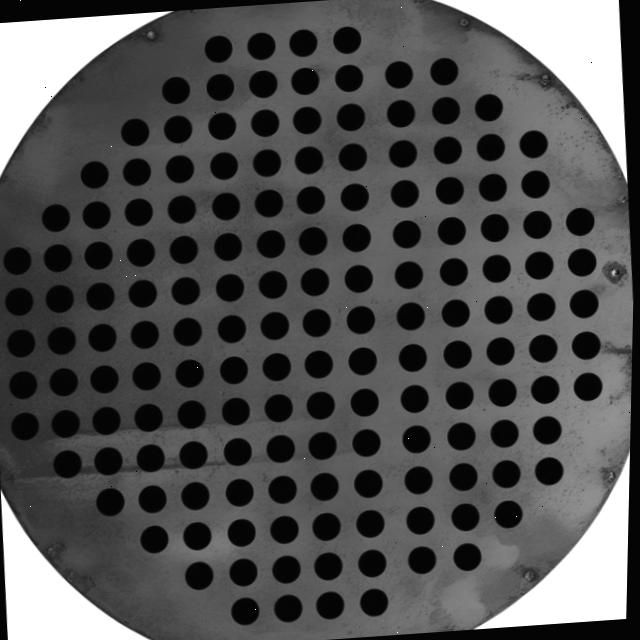Hole: (119, 112, 160, 148), (317, 576, 350, 620), (215, 309, 254, 343), (95, 482, 134, 516), (301, 302, 340, 336), (256, 306, 295, 340), (266, 431, 307, 462), (297, 220, 333, 255), (121, 150, 156, 186), (231, 588, 266, 624), (476, 123, 509, 161), (213, 270, 252, 302), (212, 227, 248, 261), (564, 202, 598, 238), (495, 496, 529, 532), (159, 72, 193, 108), (164, 146, 197, 183), (78, 156, 116, 188), (480, 208, 515, 242), (525, 288, 560, 322), (84, 236, 119, 270), (534, 452, 569, 486), (130, 315, 165, 349), (254, 224, 289, 258), (331, 22, 366, 56), (310, 468, 346, 501), (262, 349, 298, 382), (306, 386, 343, 418), (41, 242, 78, 274), (344, 302, 382, 333), (521, 206, 555, 240), (392, 214, 426, 248), (294, 140, 328, 174), (172, 313, 206, 347), (474, 88, 508, 122), (430, 51, 464, 85), (168, 230, 201, 265), (575, 367, 608, 402), (406, 544, 442, 576), (4, 284, 40, 316), (85, 278, 121, 310), (299, 264, 335, 296), (258, 267, 294, 299), (217, 352, 254, 383), (11, 407, 44, 441), (518, 124, 551, 158), (403, 462, 438, 494), (484, 292, 519, 324), (353, 466, 388, 498), (572, 328, 607, 360), (269, 472, 304, 504), (209, 188, 244, 220), (304, 346, 339, 378), (228, 555, 264, 586), (396, 298, 432, 329), (307, 429, 343, 460), (40, 199, 76, 230), (201, 32, 238, 62), (91, 444, 128, 474), (341, 218, 374, 251), (185, 559, 218, 592), (489, 374, 523, 406), (493, 456, 527, 488), (388, 134, 422, 166), (139, 481, 173, 513), (208, 146, 242, 178), (384, 56, 418, 88), (569, 244, 601, 278), (456, 540, 488, 574), (275, 590, 307, 624), (224, 475, 259, 506), (88, 320, 123, 351), (93, 402, 128, 433), (530, 372, 565, 403), (292, 103, 327, 134), (315, 549, 350, 580), (125, 235, 160, 266), (399, 381, 434, 412), (274, 552, 309, 583), (401, 422, 436, 453), (265, 391, 300, 422), (255, 186, 290, 217), (342, 261, 377, 292), (397, 340, 432, 371), (126, 278, 162, 308), (48, 366, 84, 396), (392, 258, 428, 288), (347, 344, 383, 374), (449, 459, 482, 491), (337, 138, 370, 170), (569, 286, 602, 318), (5, 326, 39, 357), (357, 546, 391, 577), (46, 323, 80, 354), (0, 243, 34, 274), (182, 477, 213, 511), (290, 65, 324, 96), (486, 334, 520, 365), (251, 106, 285, 137), (184, 520, 215, 554), (141, 523, 175, 554), (134, 400, 169, 430), (519, 167, 554, 197), (405, 504, 440, 534), (81, 198, 116, 228), (131, 360, 166, 390), (355, 508, 390, 538), (295, 182, 330, 212), (431, 94, 466, 124), (222, 435, 257, 465), (136, 441, 171, 471), (351, 426, 386, 456), (432, 131, 464, 163), (251, 144, 283, 176), (314, 510, 346, 542), (177, 397, 210, 428), (247, 28, 280, 59), (482, 251, 515, 282), (491, 416, 524, 447), (179, 438, 212, 469), (441, 254, 474, 285), (445, 337, 478, 368), (206, 109, 240, 139), (221, 394, 255, 424), (384, 96, 418, 126), (532, 414, 566, 444), (288, 26, 322, 56), (334, 100, 368, 130), (91, 362, 125, 392), (204, 72, 238, 102), (528, 332, 562, 362), (227, 517, 261, 547), (338, 180, 372, 210), (388, 176, 422, 206), (272, 514, 306, 544), (171, 273, 203, 304), (478, 170, 511, 200), (175, 356, 208, 386), (52, 406, 85, 436), (125, 194, 158, 224), (436, 172, 469, 202), (361, 586, 394, 616), (54, 449, 87, 479), (523, 249, 558, 277), (437, 213, 468, 244), (163, 112, 194, 143), (447, 378, 479, 408), (167, 192, 199, 222), (448, 419, 480, 449), (352, 387, 384, 417), (332, 64, 366, 92), (9, 368, 40, 398), (443, 296, 474, 326), (247, 70, 280, 98), (452, 502, 484, 530), (46, 282, 76, 310)
